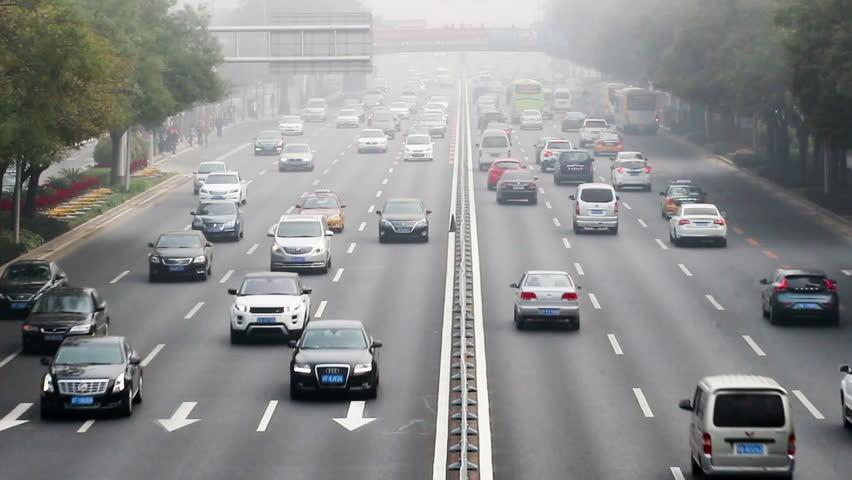bus: (611, 88, 659, 135), (589, 82, 631, 123), (509, 79, 546, 123)
car: (678, 375, 799, 480), (41, 335, 145, 421), (287, 317, 384, 402), (226, 271, 314, 347), (21, 287, 114, 356), (759, 268, 841, 327), (508, 270, 584, 331), (1, 258, 69, 321), (267, 215, 336, 275), (146, 230, 215, 282), (665, 202, 728, 248), (567, 182, 621, 234), (376, 198, 432, 244), (189, 199, 247, 242), (294, 189, 348, 233), (657, 179, 709, 220), (198, 171, 249, 206), (475, 129, 514, 173), (495, 170, 541, 206), (552, 150, 596, 187), (609, 158, 653, 191), (485, 158, 527, 191), (539, 139, 576, 173), (277, 142, 318, 172), (192, 162, 229, 195), (608, 151, 648, 181), (576, 118, 612, 148), (400, 133, 436, 161), (252, 129, 288, 156), (356, 128, 389, 153), (591, 132, 625, 156), (414, 112, 446, 137), (479, 110, 508, 137), (483, 123, 514, 146), (302, 95, 328, 121), (369, 113, 396, 138), (420, 103, 449, 124), (376, 111, 403, 133), (550, 88, 573, 113), (518, 108, 544, 130), (403, 126, 433, 145), (562, 111, 589, 132), (341, 103, 367, 124), (278, 116, 305, 136), (335, 109, 360, 128), (360, 94, 385, 112), (399, 94, 419, 114), (389, 101, 410, 119)
